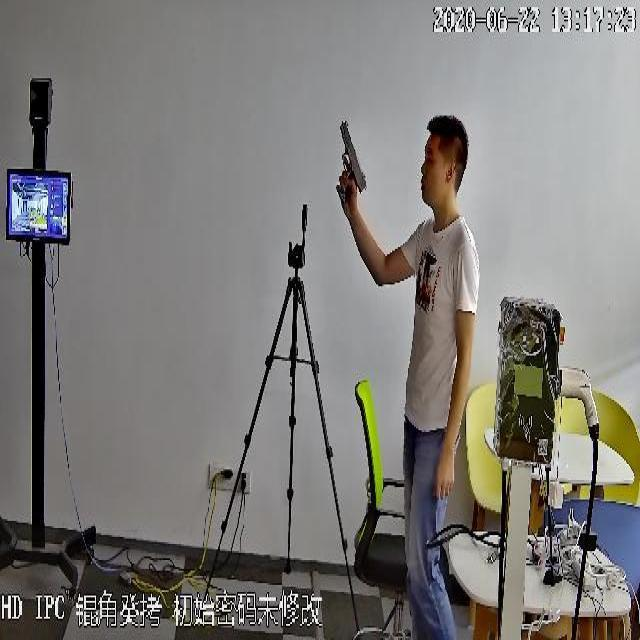pistol: (334, 117, 368, 215)
